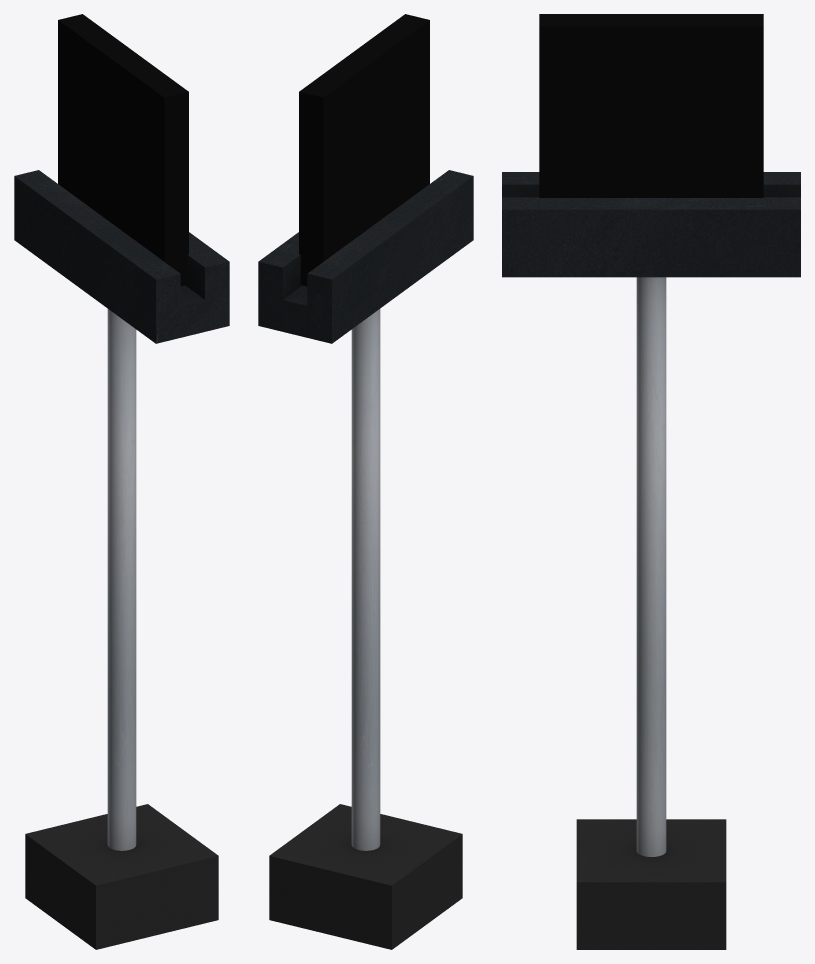
File: Maoboli_Basic.fbx
3 views of the same model, side by side, from view 1: azimuth 30°, elevation 25°; view 2: azimuth 150°, elevation 25°; view 3: azimuth 270°, elevation 25° (orthographic). The views are drawn at different scales.
Parts seen in each view (by area): view 1: Maoboli_Basic, Maoboli; view 2: Maoboli_Basic, Maoboli; view 3: Maoboli_Basic, Maoboli.
Part boxes in pixels (x1,y1,x2,y2): Maoboli_Basic: (14,170,229,949); Maoboli: (58,14,188,286); Maoboli_Basic: (258,170,473,949); Maoboli: (299,14,429,286); Maoboli_Basic: (502,172,800,949); Maoboli: (539,14,763,197).
Bounding box in the file's own units: 0.8 × 5.31 × 1.6.
2 materials, 1 textured.
